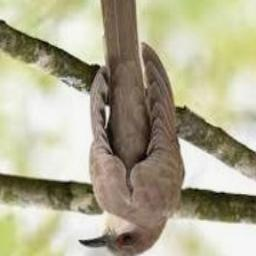Cuckoo: (79, 0, 184, 256)
